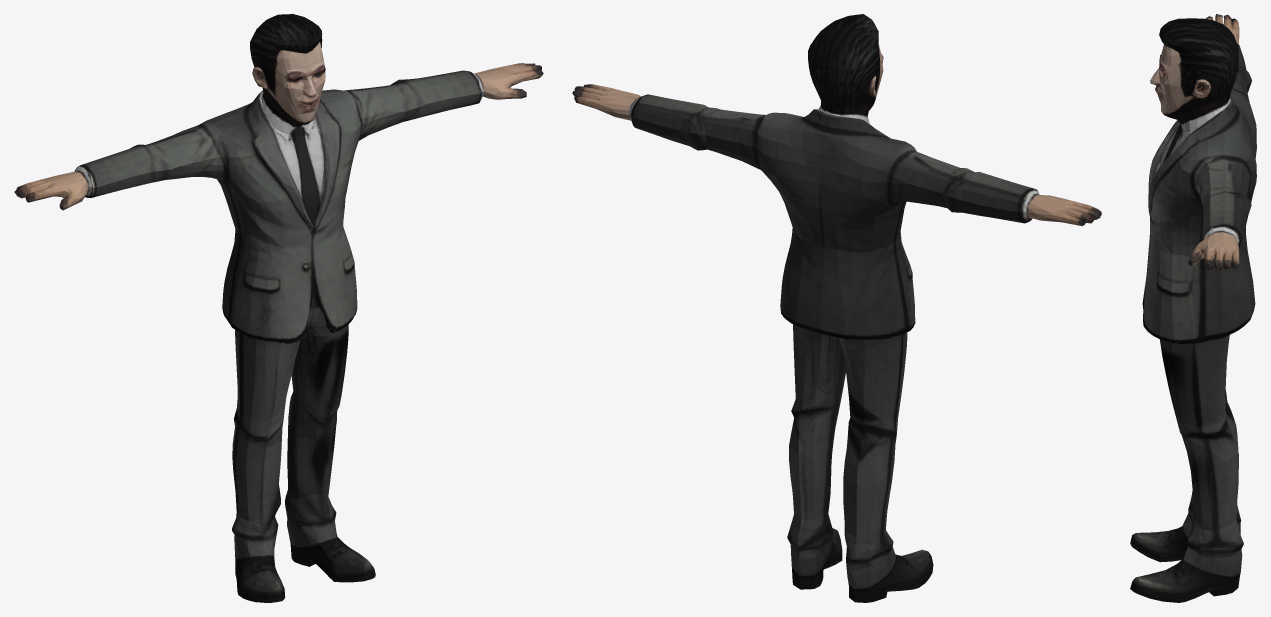
The model's file is broker_t.glb.
3 renders of one model, left to right at view 1: azimuth 30°, elevation 25°; view 2: azimuth 150°, elevation 25°; view 3: azimuth 270°, elevation 25°, orthographic.
Visible parts, largest first — view 1: world; view 2: world; view 3: world.
Boxes of the visible parts, box(x1,y1,x2,y2) form: world: box(14, 14, 543, 602); world: box(572, 14, 1101, 602); world: box(1130, 14, 1256, 602).
Bounding box in the file's own units: 0.9844 × 1 × 0.2076.
Materials: 1 (1 with a texture image).
